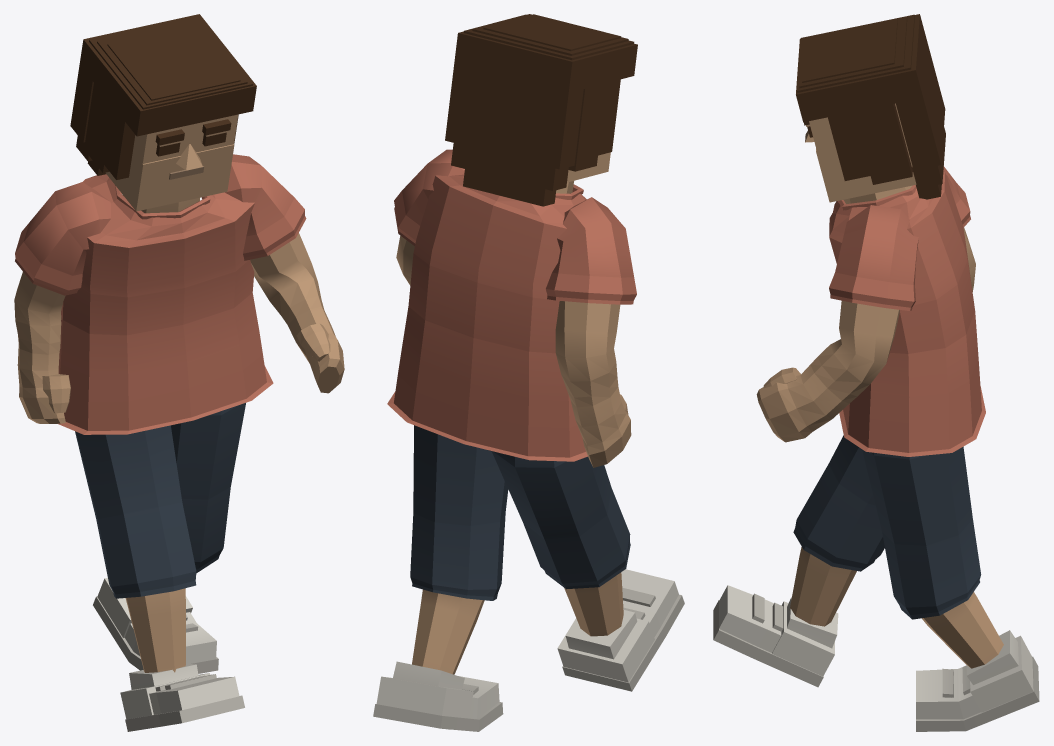
The model's file is neighborhood-child-8cc5ac__walk4.glb.
3 renders of one model, left to right at view 1: azimuth 30°, elevation 25°; view 2: azimuth 150°, elevation 25°; view 3: azimuth 270°, elevation 25°, orthographic. The views are drawn at different scales.
Visible parts, largest first — view 1: neighborhood-child-8cc5ac__walk4; view 2: neighborhood-child-8cc5ac__walk4; view 3: neighborhood-child-8cc5ac__walk4.
Boxes of the visible parts, x1,y1,x2,y2 form: neighborhood-child-8cc5ac__walk4: (14, 14, 344, 731); neighborhood-child-8cc5ac__walk4: (373, 14, 684, 731); neighborhood-child-8cc5ac__walk4: (713, 14, 1039, 731).
Bounding box in the file's own units: 0.4765 × 1.18 × 0.5308.
